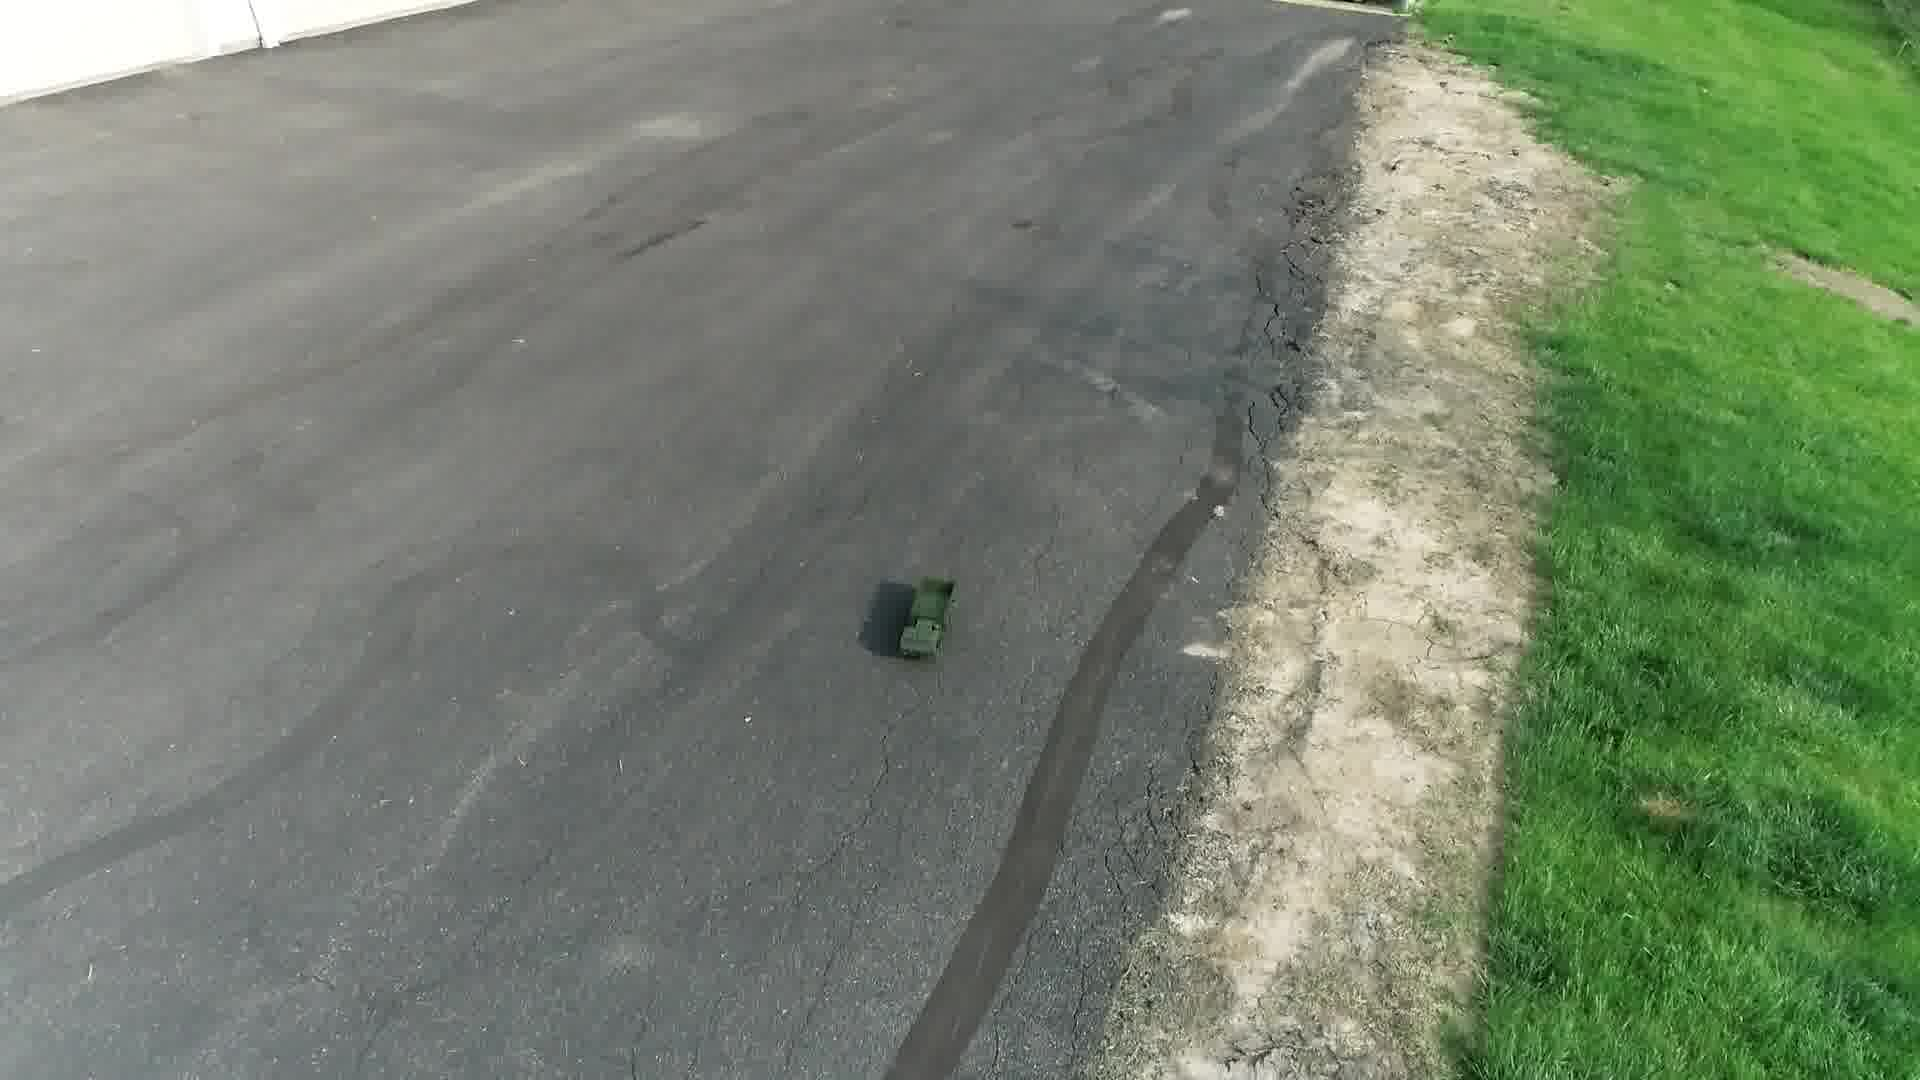transporter9: (898, 574, 963, 665)
